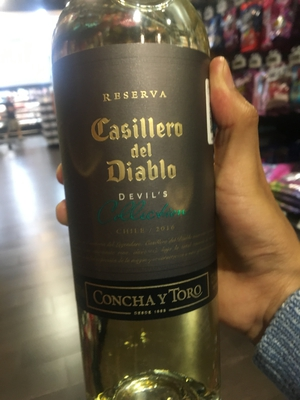casillero del diablo devils collection verde: (49, 10, 241, 394)
